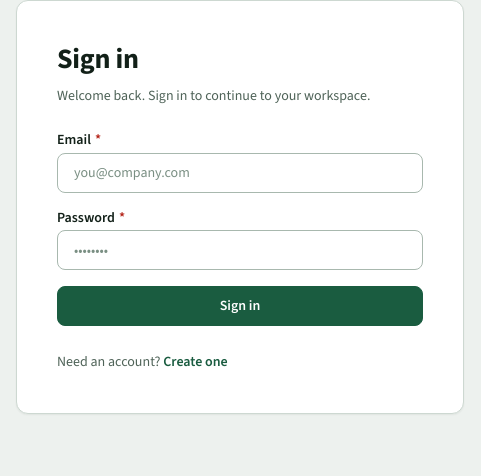
Test: LoginForm › validates email format and password length
Type "not-an-email" into the field labelled "Email*".
click(240, 173); type("not-an-email")  # box [57,153,423,193]
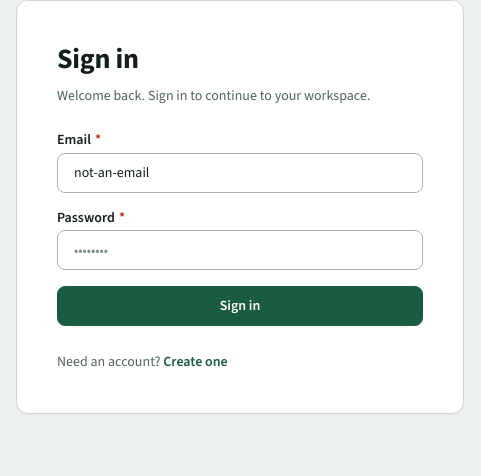
Type "short" into the password field labelled "Password*".
click(240, 250); type("short")  # box [57,230,423,270]
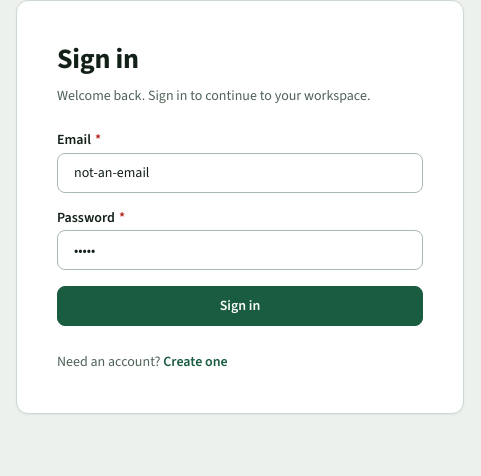
Click the button "Sign in".
click(240, 306)  # box [57,286,423,326]
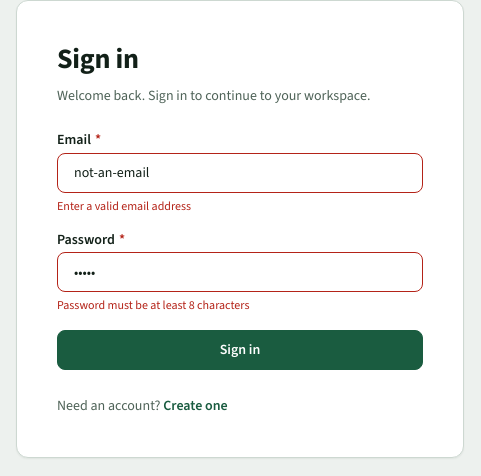
Expected: the text "Enter a valid email address" is shown, [57,198,191,214]
Expected: the text "Password must be at least 8 characters" is shown, [57,297,249,313]
